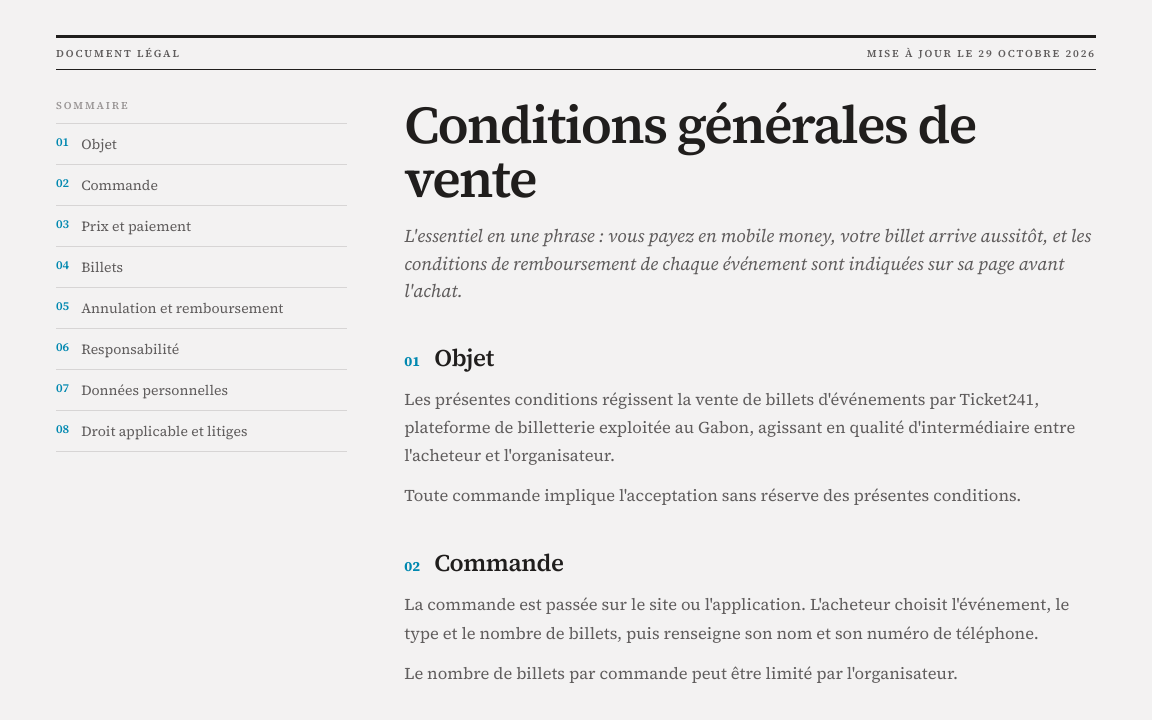
Test: LegalPage — sommaire › défile en douceur jusqu’à la section, sous l’en-tête, et met à jour le hash
Click the link "05 Annulation et remboursement".
click(201, 308)  # box [56,288,347,328]
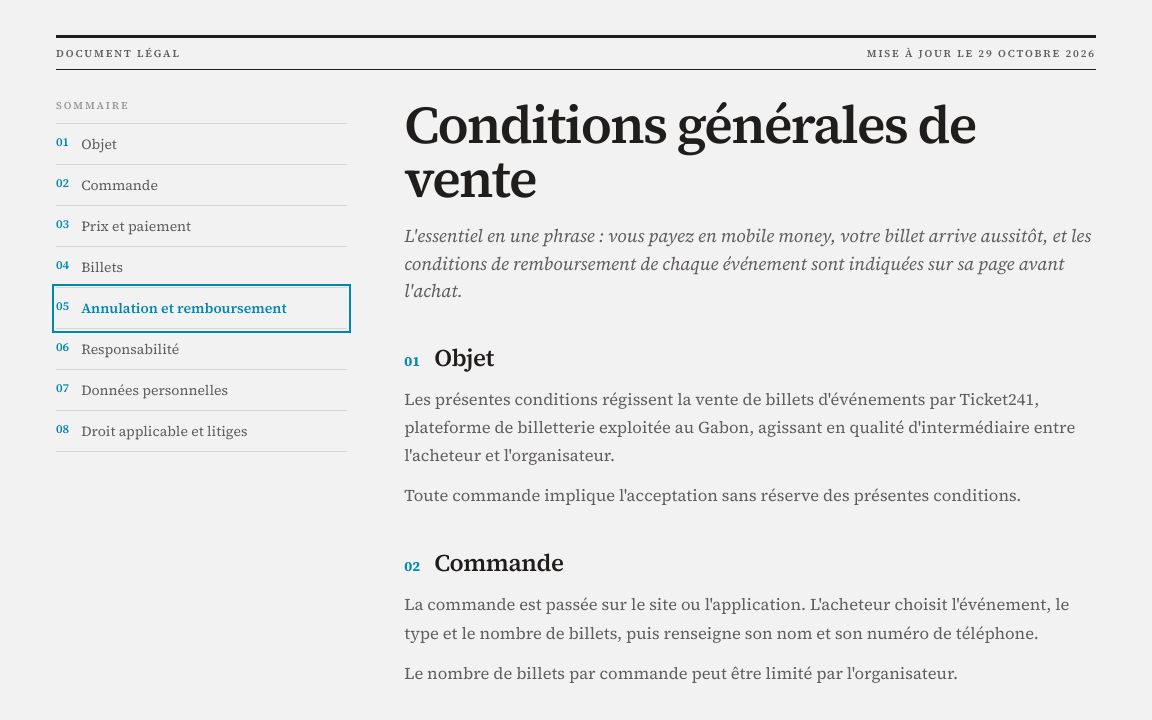
Result: the link "05 Annulation et remboursement" has attribute aria-current="location" at [56,288,347,328]
